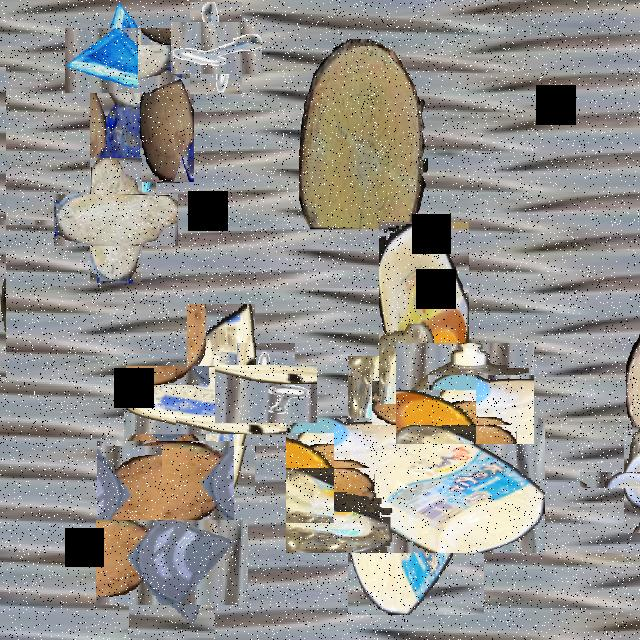glass: (112, 502, 232, 622), (78, 15, 170, 106), (90, 75, 156, 192)
metal: (226, 354, 306, 435), (180, 12, 252, 84)
plastic: (317, 387, 515, 584), (156, 335, 286, 465), (379, 222, 469, 404), (405, 333, 525, 453), (0, 143, 82, 300), (601, 449, 640, 510)
wood: (299, 39, 427, 228), (110, 427, 220, 537), (72, 176, 160, 265), (140, 78, 194, 182), (381, 372, 444, 435), (626, 329, 640, 464)
